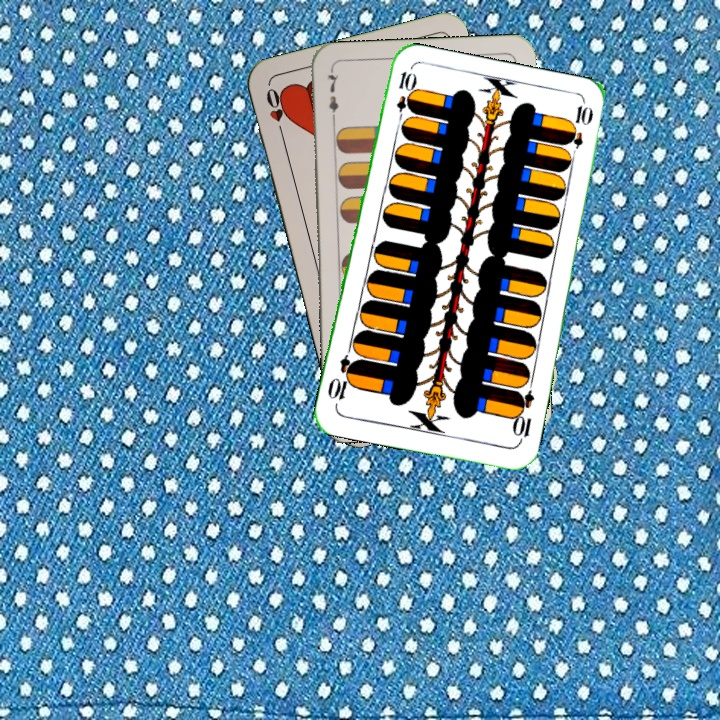E10: (508, 387, 537, 446), (392, 67, 416, 127)
E7: (324, 67, 342, 126)
HO: (262, 84, 289, 141)
